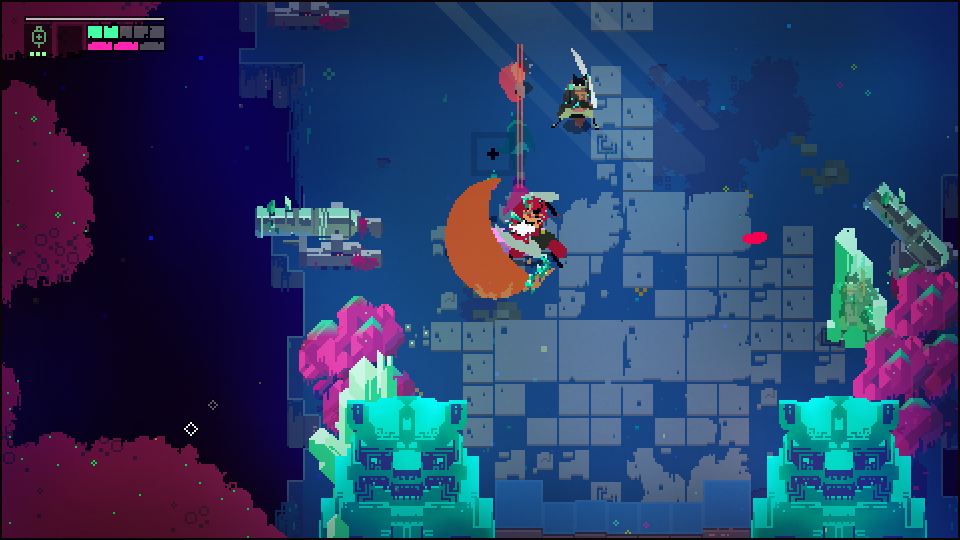hanged_man: (461, 184, 567, 282)
player: (498, 58, 535, 101)
